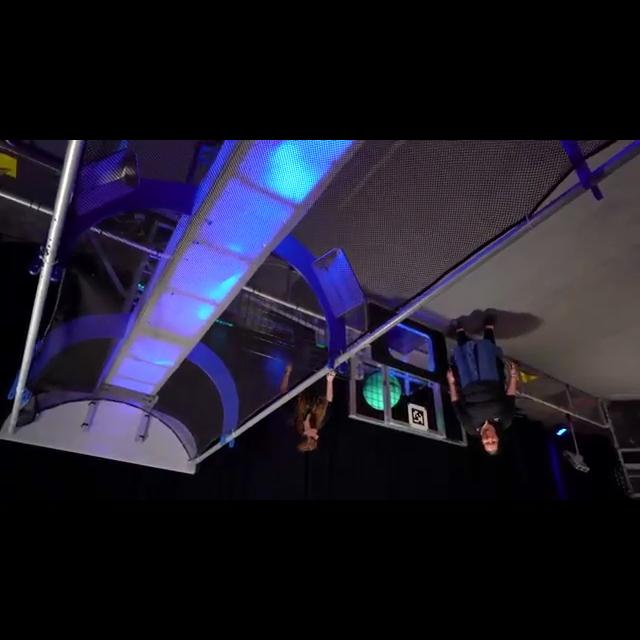ALGAE: (362, 372, 402, 412)
